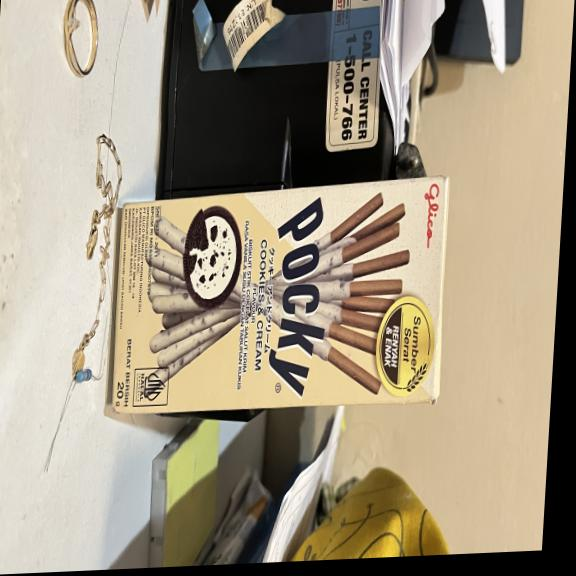Kertas: (108, 175, 448, 421)
